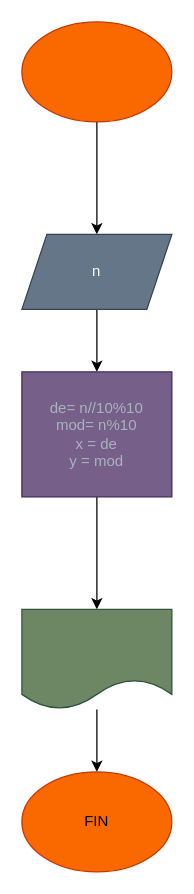
This 194x894 diagram has some shape labels left out. Here are the shapes that lost their labels. From the top down, the centre of each, then its label:
At point (96, 71): "INICIO".
At point (96, 658): "rta".
